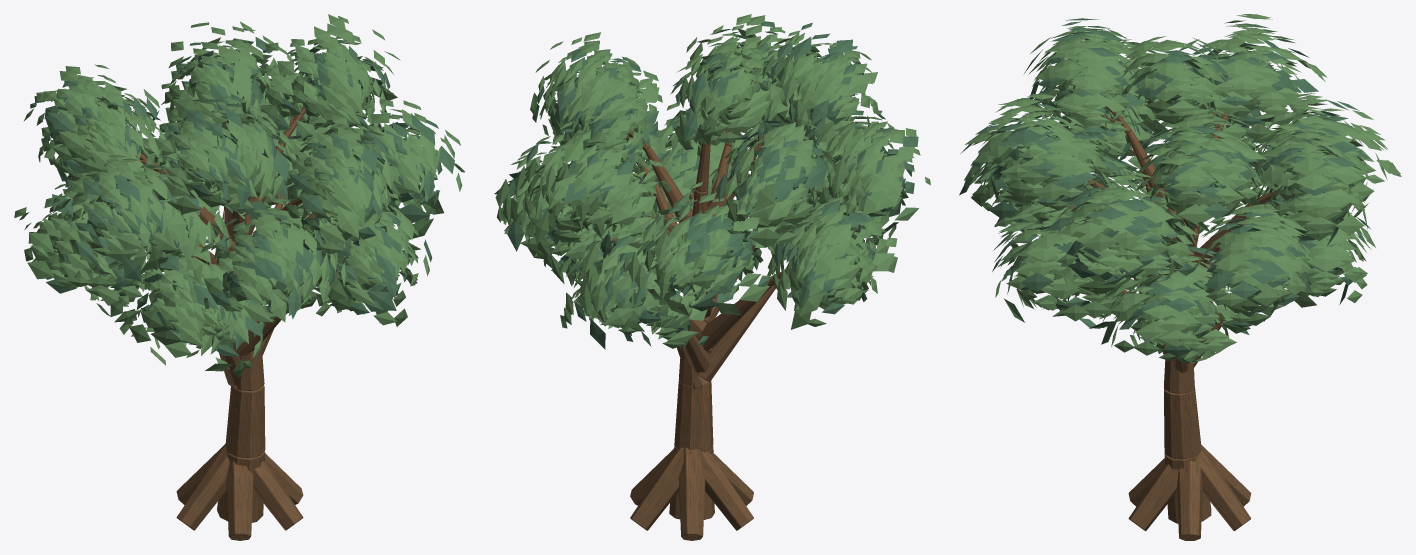
File: garden_tree.glb
The picture shows the model from 3 angles, left to right: view 1: azimuth 30°, elevation 25°; view 2: azimuth 150°, elevation 25°; view 3: azimuth 270°, elevation 25°; orthographic projection. The views are drawn at different scales.
Visible parts, largest first — view 1: Airy supported leaf sprays.001, Airy supported leaf sprays, Grounded buttress roots, Tapered curved trunk, Asymmetric crown tuft.001, Primary angled limbs, Asymmetric crown tuft; view 2: Airy supported leaf sprays.001, Airy supported leaf sprays, Grounded buttress roots, Primary angled limbs, Asymmetric crown tuft.001, Tapered curved trunk, Asymmetric crown tuft; view 3: Airy supported leaf sprays.001, Airy supported leaf sprays, Grounded buttress roots, Asymmetric crown tuft.001, Tapered curved trunk, Primary angled limbs, Asymmetric crown tuft.
Part boxes in pixels (left/top/right/bottom): Airy supported leaf sprays.001: left=14, top=14, right=464, bottom=377; Airy supported leaf sprays: left=24, top=28, right=454, bottom=356; Grounded buttress roots: left=176, top=444, right=303, bottom=540; Tapered curved trunk: left=217, top=137, right=265, bottom=522; Asymmetric crown tuft.001: left=165, top=41, right=273, bottom=130; Primary angled limbs: left=158, top=141, right=315, bottom=389; Asymmetric crown tuft: left=176, top=50, right=263, bottom=123; Airy supported leaf sprays.001: left=495, top=14, right=930, bottom=350; Airy supported leaf sprays: left=494, top=21, right=918, bottom=349; Grounded buttress roots: left=630, top=447, right=753, bottom=540; Primary angled limbs: left=643, top=134, right=775, bottom=389; Asymmetric crown tuft.001: left=670, top=33, right=782, bottom=145; Tapered curved trunk: left=669, top=125, right=714, bottom=519; Asymmetric crown tuft: left=689, top=52, right=771, bottom=139; Airy supported leaf sprays.001: left=964, top=14, right=1401, bottom=363; Airy supported leaf sprays: left=959, top=18, right=1370, bottom=356; Grounded buttress roots: left=1128, top=444, right=1251, bottom=540; Asymmetric crown tuft.001: left=1122, top=36, right=1227, bottom=135; Tapered curved trunk: left=1164, top=134, right=1211, bottom=523; Primary angled limbs: left=1104, top=131, right=1251, bottom=372; Asymmetric crown tuft: left=1121, top=42, right=1227, bottom=135.
Size of the model in its own units: 2.96 by 3.65 by 3.12.
4 materials, 2 textured.
